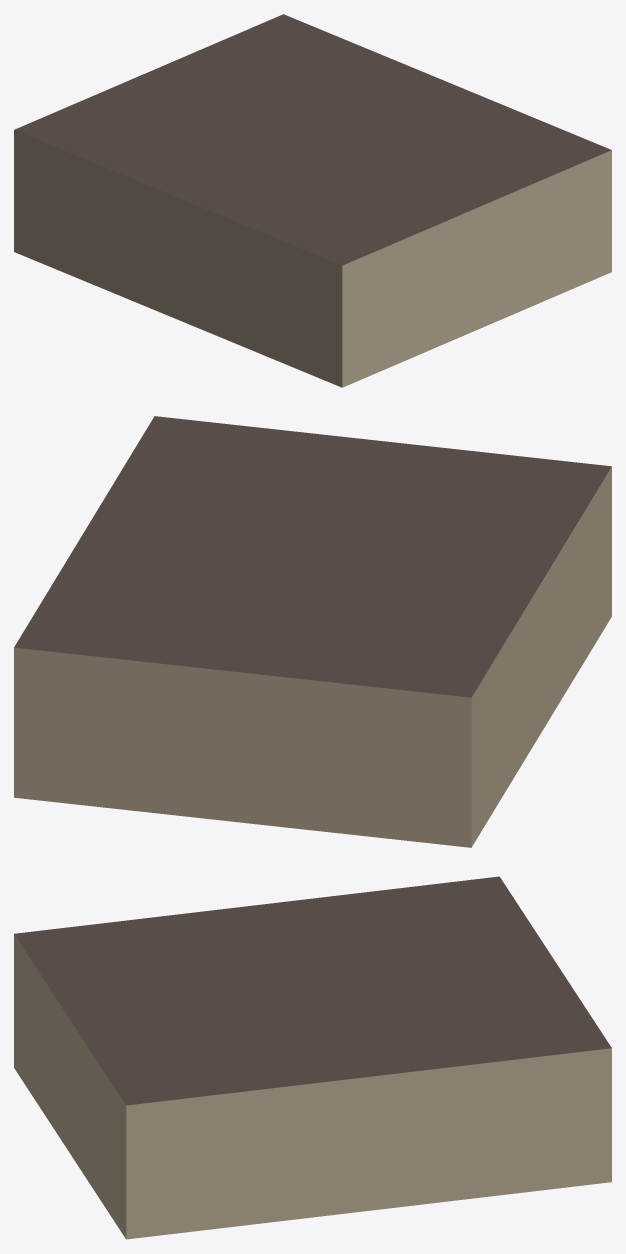
3 views of the same model, one above another, from view 1: azimuth 30°, elevation 25°; view 2: azimuth 150°, elevation 25°; view 3: azimuth 270°, elevation 25° (orthographic). The views are drawn at different scales.
Parts seen in each view (by area): view 1: HP-w1198843239; view 2: HP-w1198843239; view 3: HP-w1198843239.
Boxes of the visible parts, box(x1,y1,x2,y2) form: HP-w1198843239: box(14, 14, 611, 387); HP-w1198843239: box(14, 416, 611, 847); HP-w1198843239: box(14, 876, 611, 1239).
Bounding box in the file's own units: 33.01 × 9 × 36.41.
